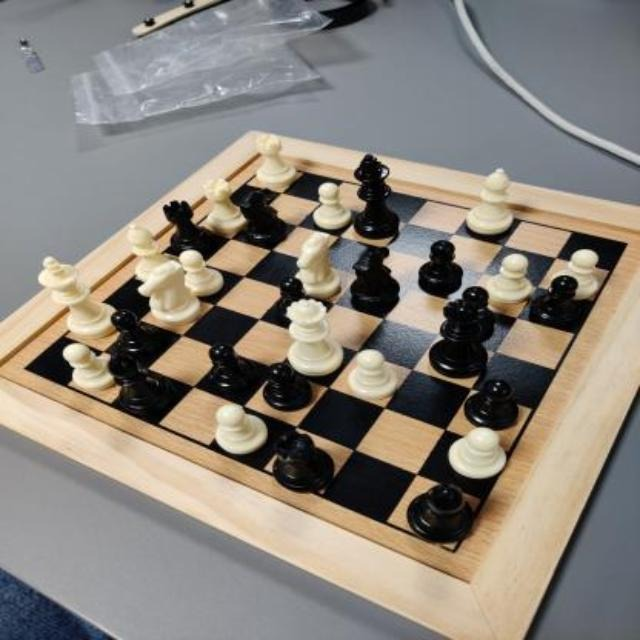black-bishop: (107, 353, 177, 417), (407, 483, 474, 543)
black-king: (354, 154, 400, 240)
black-knight: (349, 246, 401, 304), (236, 188, 289, 243)
black-pawn: (464, 378, 519, 430), (209, 343, 261, 393), (111, 309, 163, 356), (264, 362, 312, 411), (532, 276, 579, 326), (419, 241, 465, 287), (275, 276, 319, 323), (460, 285, 496, 332)
black-queen: (428, 298, 488, 378)
black-rook: (272, 430, 336, 494), (162, 200, 216, 252)
white-bishop: (127, 223, 183, 286), (465, 167, 515, 234)
white-king: (36, 256, 123, 339)
white-knight: (137, 260, 203, 326), (293, 229, 342, 299)
white-pawn: (447, 426, 508, 478), (62, 342, 122, 391), (215, 403, 269, 455), (550, 249, 600, 302), (348, 350, 400, 400), (485, 253, 532, 305), (174, 249, 224, 296), (312, 181, 354, 230)
white-queen: (285, 299, 345, 377)
white-rook: (202, 178, 249, 234), (253, 133, 296, 188)
